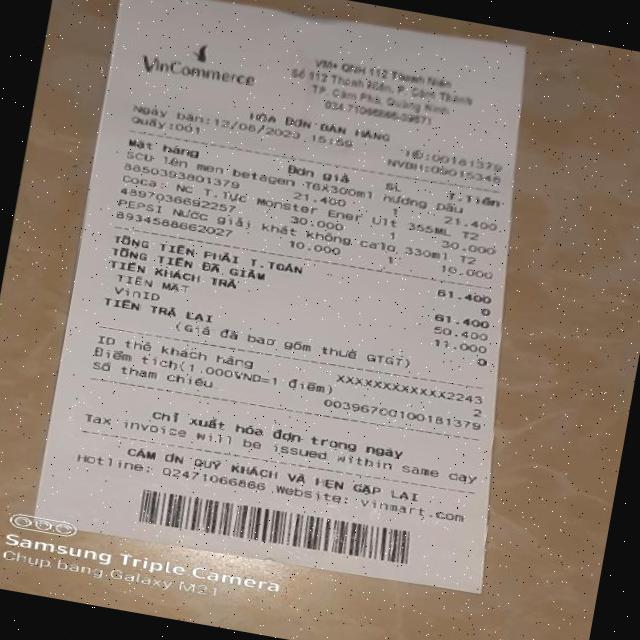Date: (211, 115, 302, 142)
Store_Name: (136, 51, 258, 94)
amount_number: (433, 284, 492, 306)
label_total: (106, 228, 308, 278)
